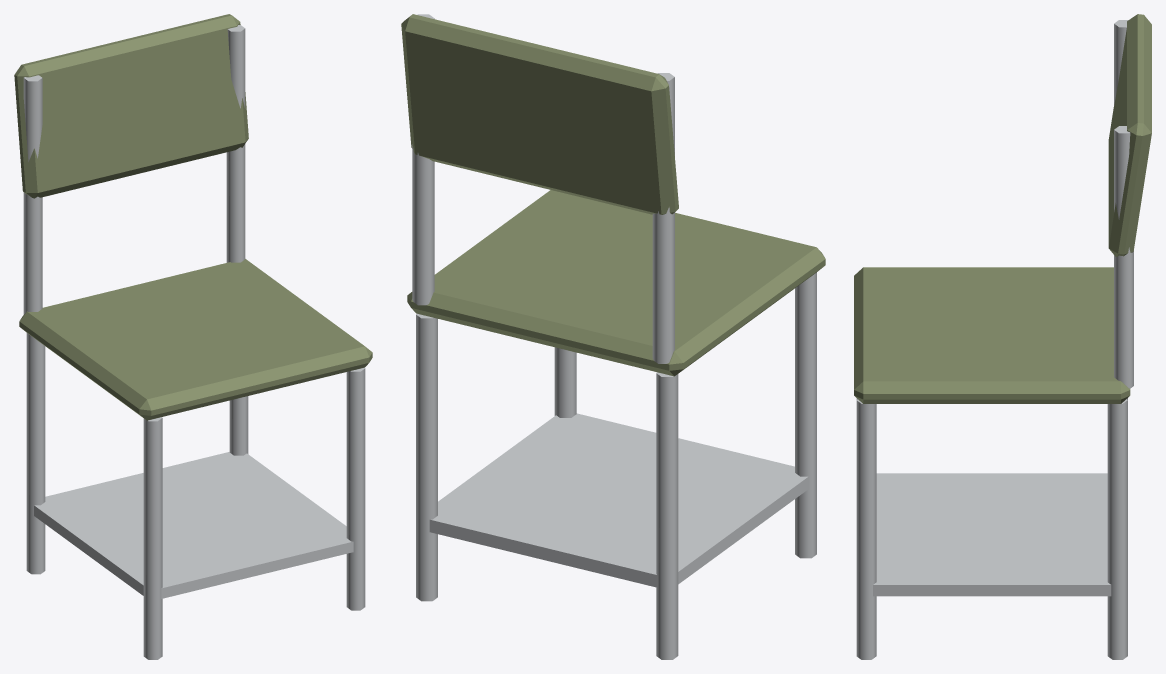
File: chair_plain.glb
3 renders of one model, left to right at view 1: azimuth 30°, elevation 25°; view 2: azimuth 150°, elevation 25°; view 3: azimuth 270°, elevation 25°, orthographic. The views are drawn at different scales.
Parts seen in each view (by area): view 1: chair_plain; view 2: chair_plain; view 3: chair_plain.
Boxes of the visible parts, <box> form: chair_plain: <box>14,14,372,659</box>; chair_plain: <box>401,14,825,659</box>; chair_plain: <box>854,14,1151,659</box>.
Bounding box in the file's own units: 0.46 × 0.9395 × 0.4744.
